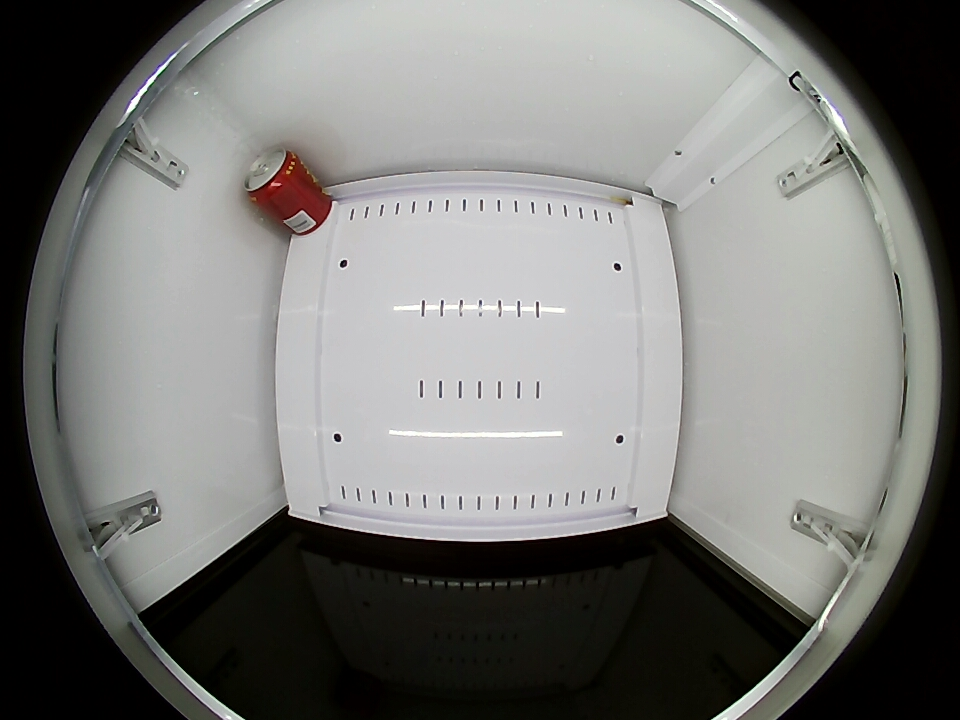wanglaoji-c: (244, 146, 302, 206)
